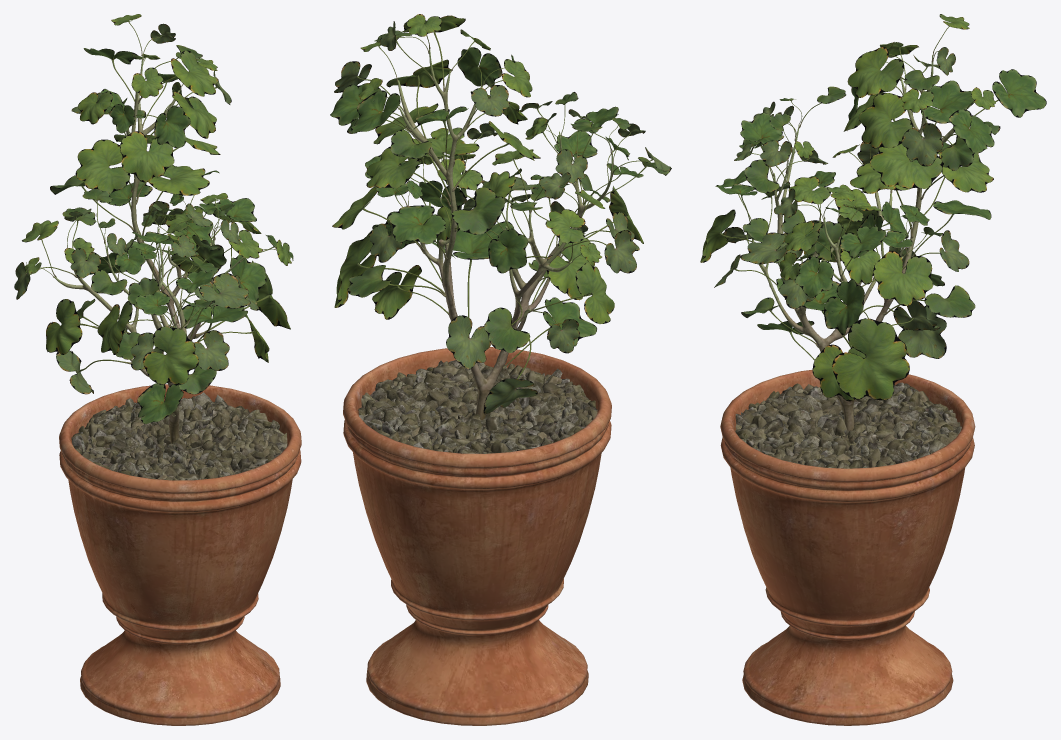
The model's file is plant.glb.
The picture shows the model from 3 angles, left to right: view 1: azimuth 30°, elevation 25°; view 2: azimuth 150°, elevation 25°; view 3: azimuth 270°, elevation 25°; orthographic projection. The views are drawn at different scales.
Visible parts, largest first — view 1: potted_plant_01_pot, potted_plant_01_leaves, potted_plant_01_pebbles, potted_plant_01_stem; view 2: potted_plant_01_pot, potted_plant_01_leaves, potted_plant_01_pebbles, potted_plant_01_stem; view 3: potted_plant_01_pot, potted_plant_01_leaves, potted_plant_01_pebbles, potted_plant_01_stem.
Boxes of the visible parts, left/top/right/bottom form: potted_plant_01_pot: left=59, top=384, right=301, bottom=725; potted_plant_01_leaves: left=14, top=14, right=293, bottom=423; potted_plant_01_pebbles: left=71, top=392, right=287, bottom=480; potted_plant_01_stem: left=53, top=54, right=244, bottom=443; potted_plant_01_pot: left=343, top=347, right=611, bottom=725; potted_plant_01_leaves: left=330, top=14, right=671, bottom=414; potted_plant_01_pebbles: left=358, top=360, right=597, bottom=453; potted_plant_01_stem: left=397, top=49, right=612, bottom=420; potted_plant_01_pot: left=720, top=369, right=975, bottom=725; potted_plant_01_leaves: left=700, top=14, right=1046, bottom=401; potted_plant_01_pebbles: left=735, top=382, right=961, bottom=468; potted_plant_01_stem: left=751, top=55, right=966, bottom=431.
Bounding box in the file's own units: 0.5874 × 1.34 × 0.6336.
Materials: 2 (2 with a texture image).
